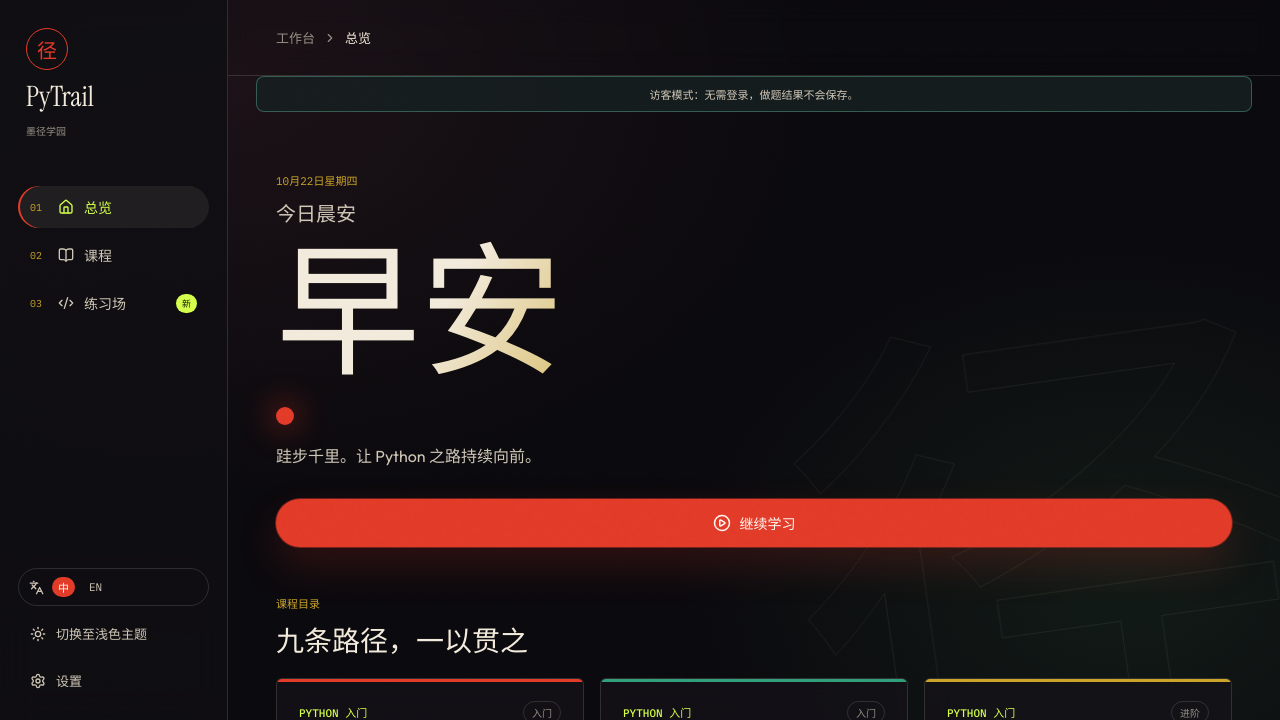
it: on-demand course and lesson workflow › supports userless deployments without auth or progress requests
Expected: the text "访客模式：无需登录，做题结果不会保存。" is shown, [256,76,1252,112]
Click the button with test id "nav-course" at (114, 255), box [18,234,209,276]
(page scrolled)
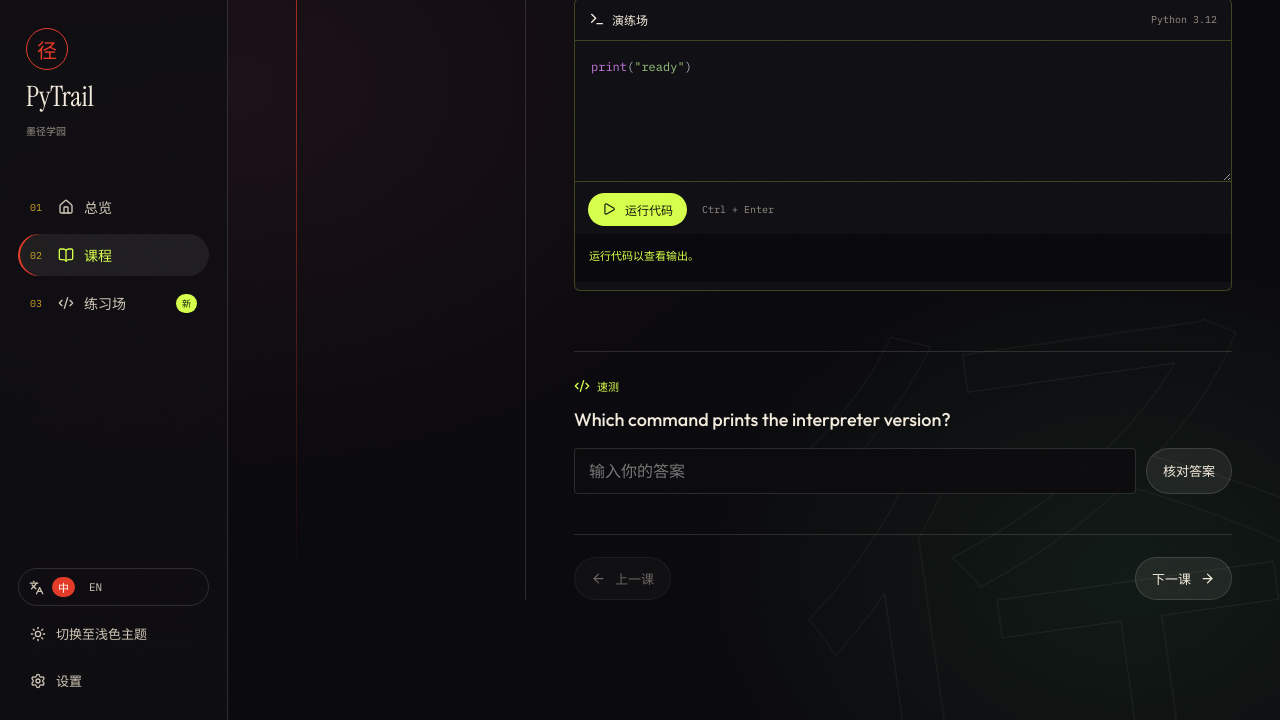
Click the button "核对答案" at (1189, 470), box [1146,448,1232,494]
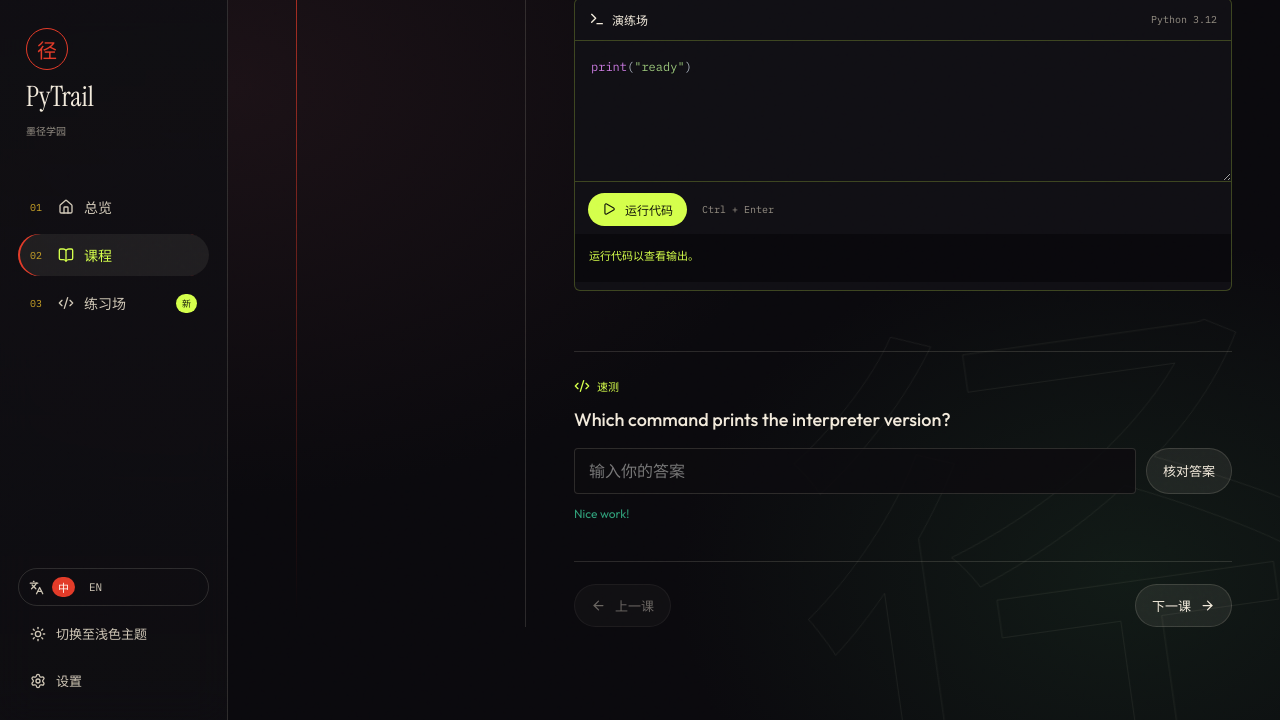
Expected: the text "Nice work!" is shown, [574,506,629,520]
